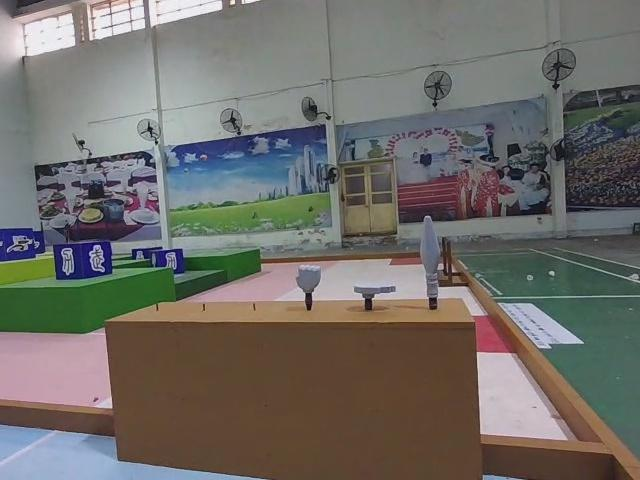Fist: (293, 265, 321, 312)
Hand: (350, 278, 397, 308)
Sph: (417, 214, 441, 313)
